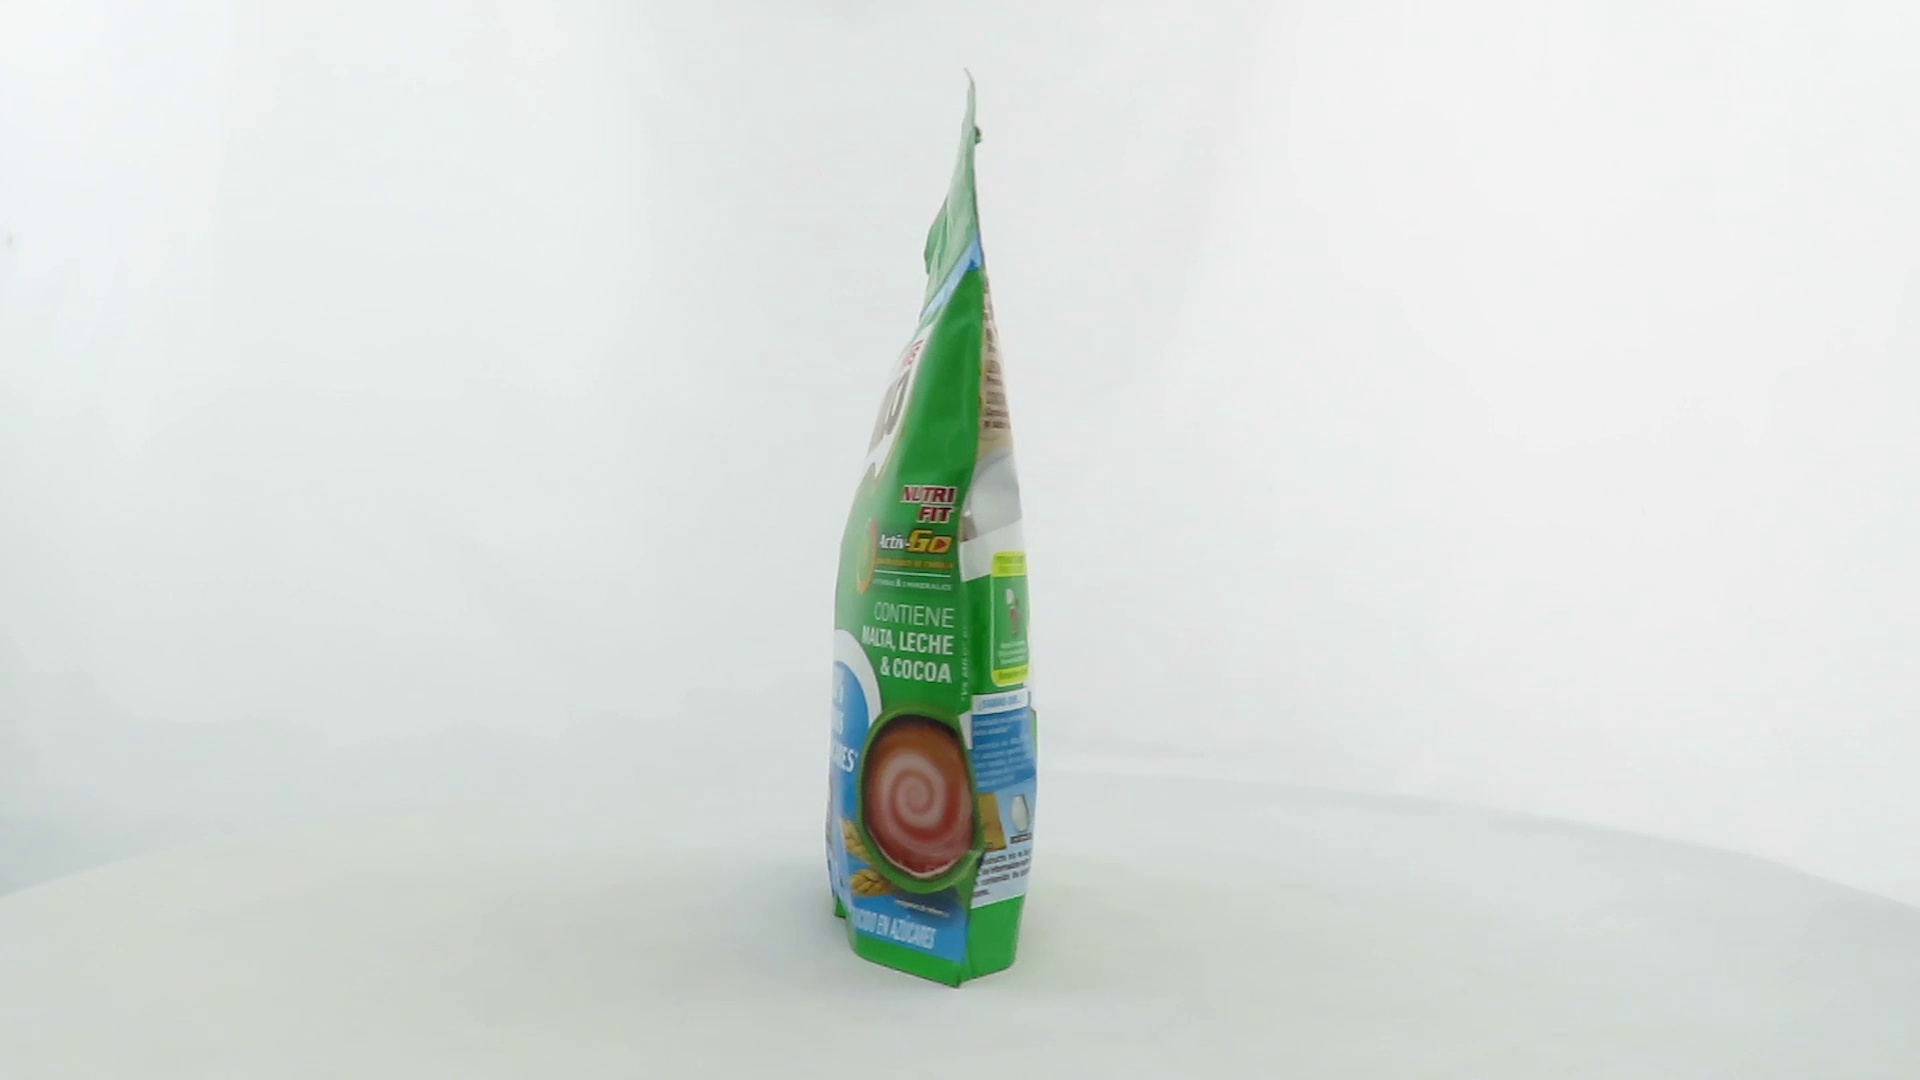COL0170205DYP20000: (820, 62, 1044, 996)
